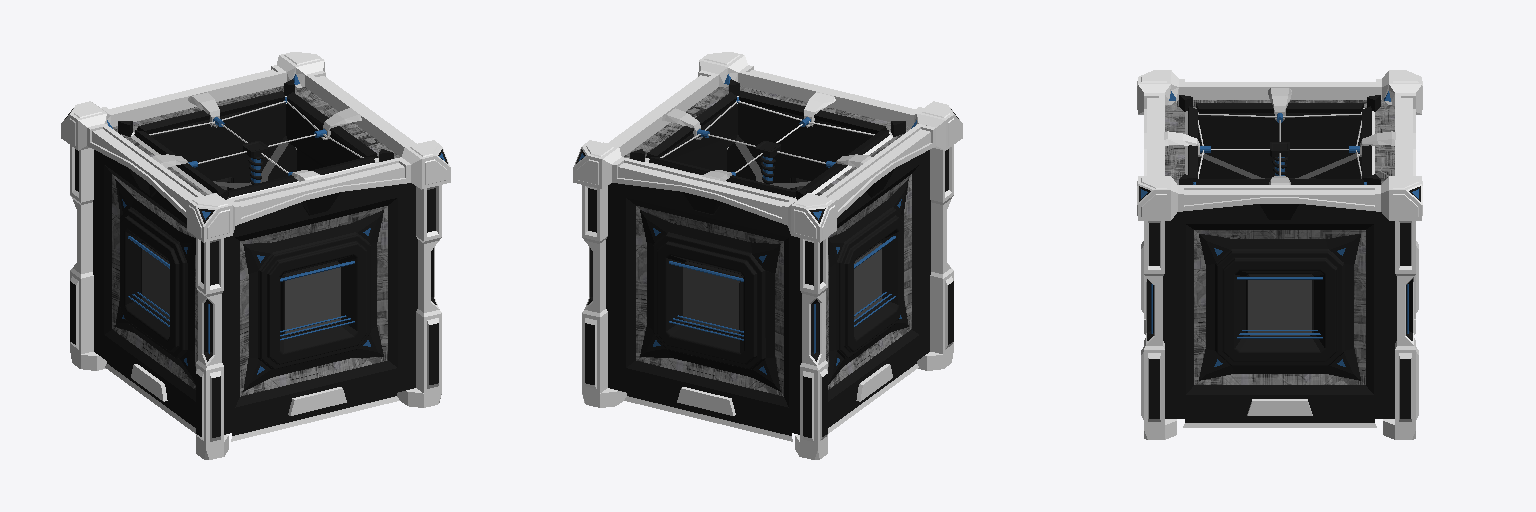
The picture shows the model from 3 angles: view 1: azimuth 30°, elevation 25°; view 2: azimuth 150°, elevation 25°; view 3: azimuth 270°, elevation 25°; orthographic projection.
Parts seen in each view (by area): view 1: Box001, Box006, Box017, Box012, Box018, Box003, Box004, Box005, InsideCover003; view 2: Box001, Box004, Box018, Box019, Box003, Box017, Box006, Box005, InsideCover001; view 3: Box001, Box005, Box012, Box019, Box003, Box004, InsideCover002, Box006.
Boxes of the visible parts, x1=… form: Box001: x1=93, y1=79, x2=417, y2=441; Box006: x1=187, y1=157, x2=410, y2=242; Box017: x1=196, y1=237, x2=228, y2=459; Box012: x1=397, y1=185, x2=441, y2=407; Box018: x1=70, y1=145, x2=106, y2=370; Box003: x1=61, y1=101, x2=203, y2=217; Box004: x1=101, y1=52, x2=324, y2=126; Box005: x1=305, y1=71, x2=450, y2=189; InsideCover003: x1=195, y1=142, x2=294, y2=188; Box001: x1=606, y1=79, x2=930, y2=441; Box004: x1=573, y1=140, x2=796, y2=225; Box018: x1=795, y1=237, x2=827, y2=459; Box019: x1=582, y1=185, x2=626, y2=407; Box003: x1=788, y1=124, x2=935, y2=242; Box017: x1=917, y1=145, x2=953, y2=370; Box006: x1=738, y1=65, x2=962, y2=150; Box005: x1=603, y1=52, x2=747, y2=156; InsideCover001: x1=729, y1=142, x2=828, y2=188; Box001: x1=1163, y1=95, x2=1396, y2=427; Box005: x1=1137, y1=176, x2=1380, y2=220; Box012: x1=1141, y1=221, x2=1176, y2=439; Box019: x1=1383, y1=221, x2=1418, y2=439; Box003: x1=1179, y1=70, x2=1422, y2=114; Box004: x1=1381, y1=93, x2=1422, y2=220; InsideCover002: x1=1198, y1=153, x2=1361, y2=178; Box006: x1=1137, y1=70, x2=1178, y2=175.
Size of the model in its own units: 48.56 by 47.33 by 48.56.
7 materials, 1 textured.